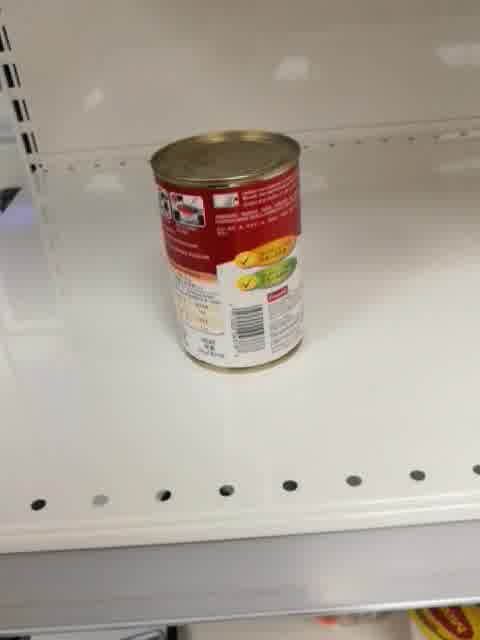tomatosoup: (148, 127, 306, 377)
